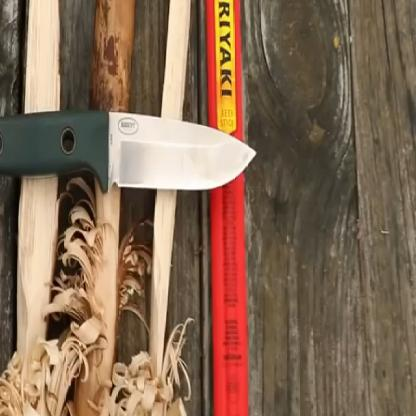knife: (58, 101, 281, 208)
